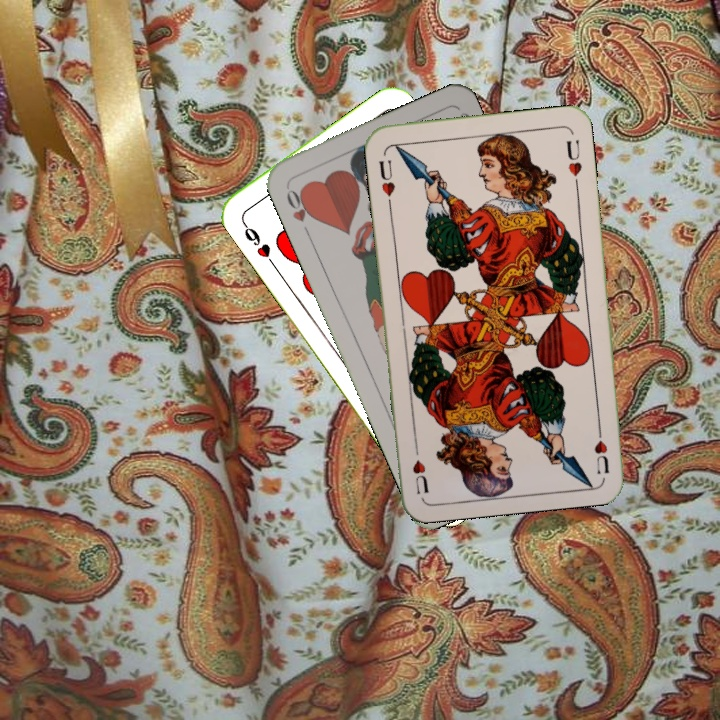H9: (238, 217, 277, 268)
HO: (282, 183, 317, 239)
HU: (590, 419, 612, 476), (375, 156, 398, 208)
